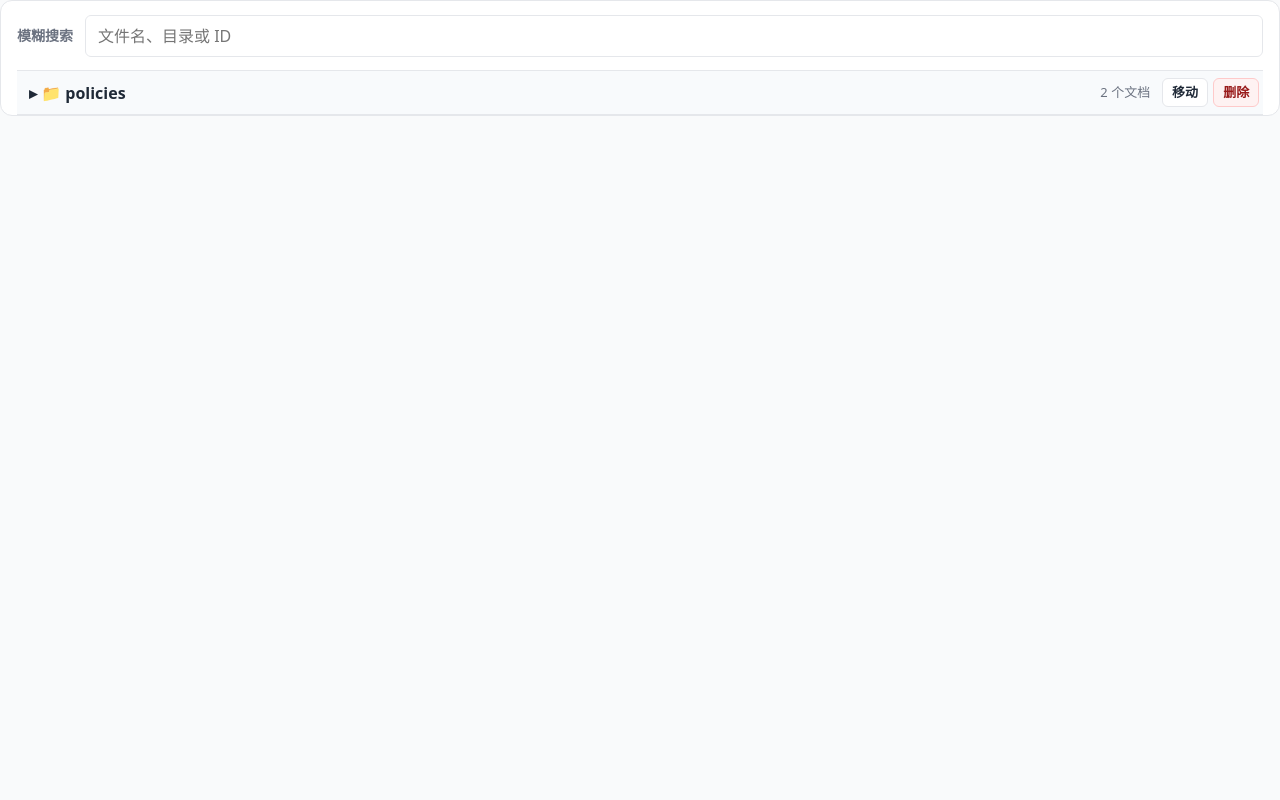
Test: source file browser › opens plain-text preview from filename or view button
Click the button with aria-label "展开文件夹 policies" at (95, 93), box [29,81,1084,105]
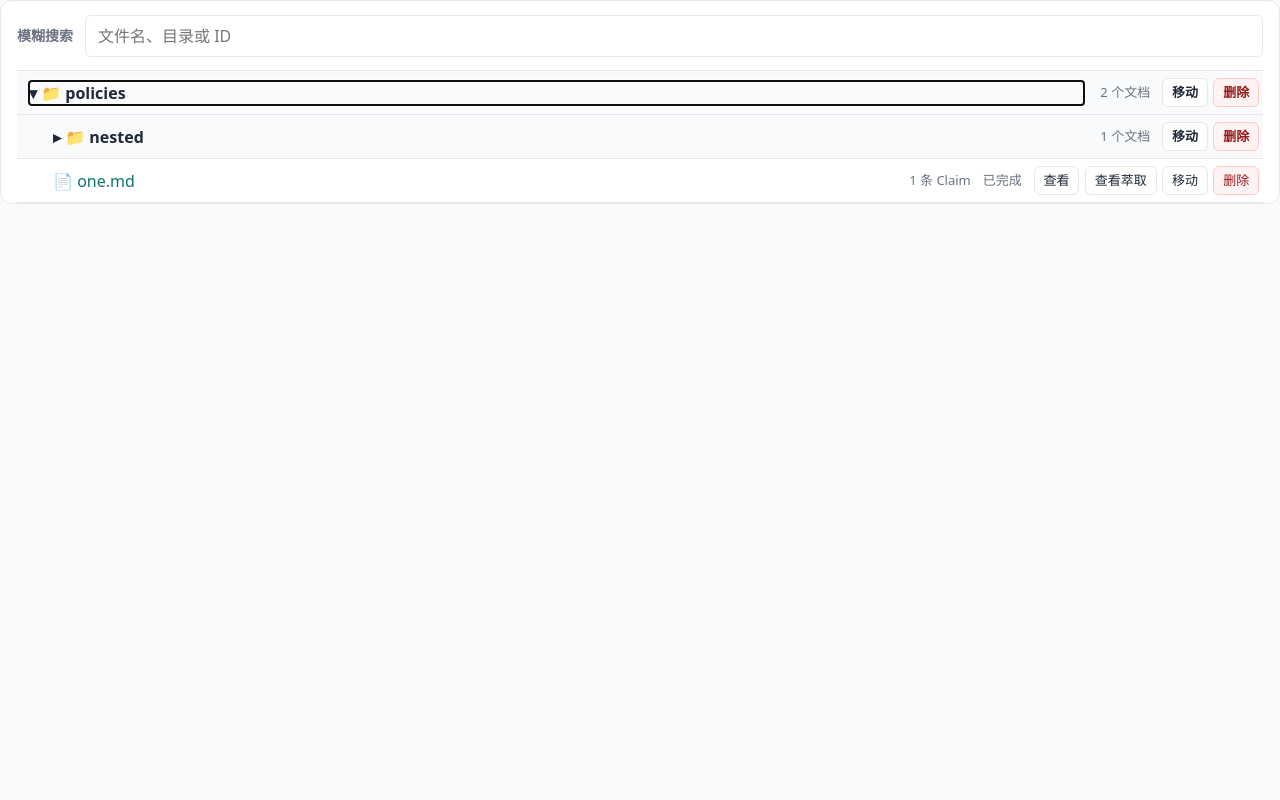
Click the button "📄 one.md" at (106, 181), box [53,169,893,193]
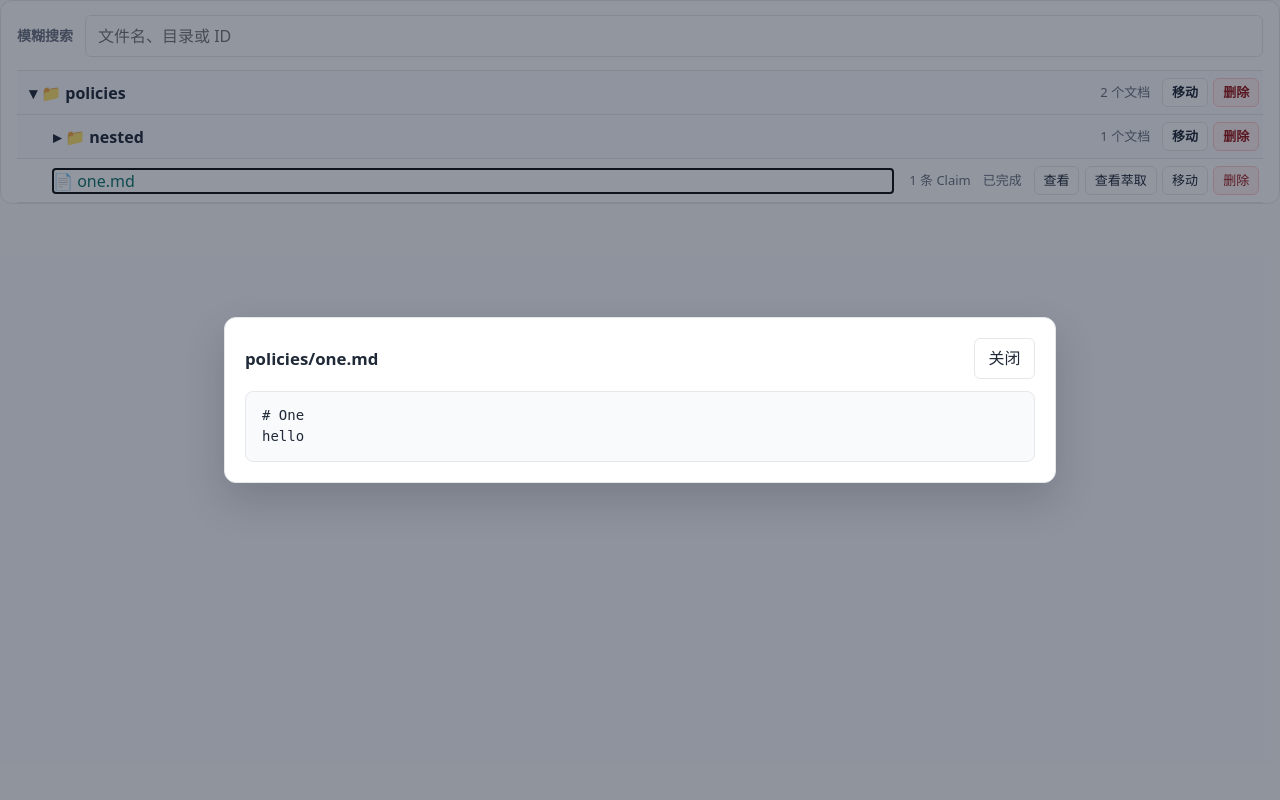
Expected: the dialog is shown, [224,317,1056,483]
Click the button with aria-label "关闭预览" at (1004, 358), box [974,338,1035,379]
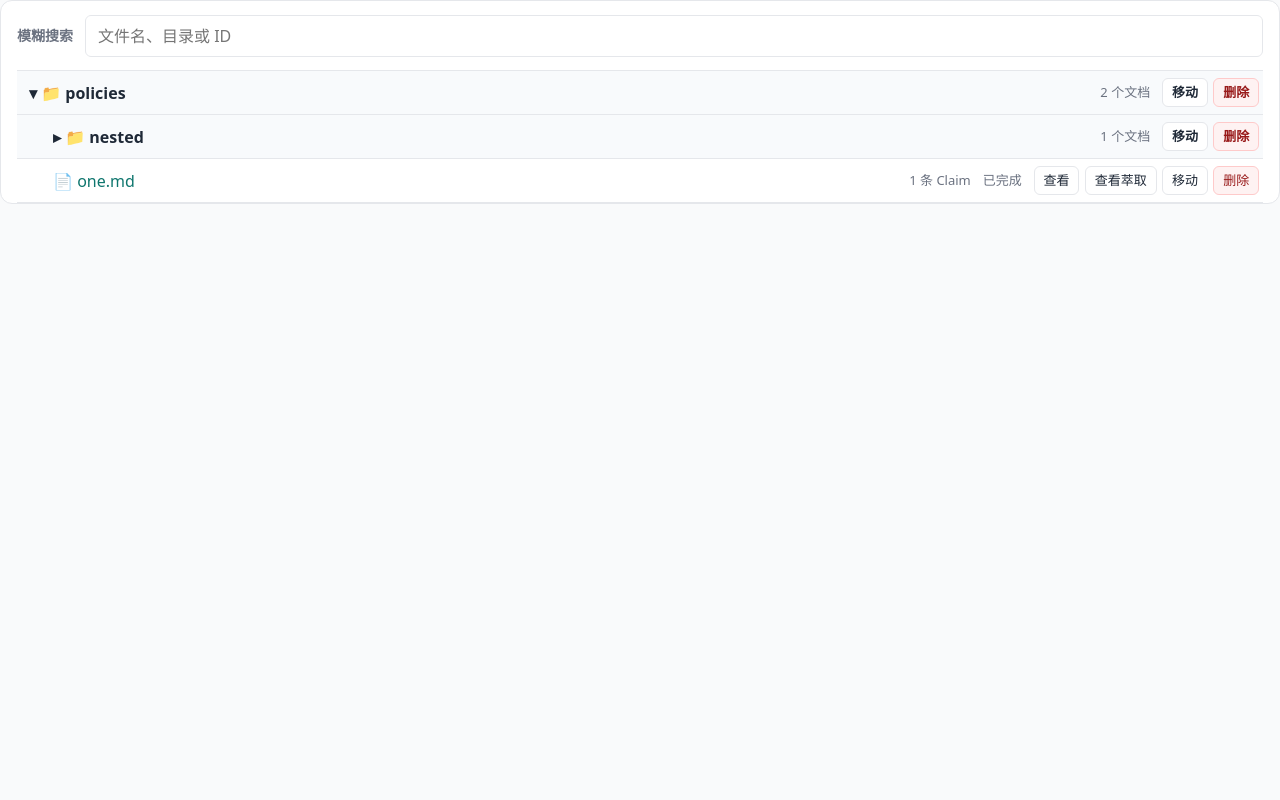
Expected: the dialog is gone
Click the button with aria-label "查看文件 one.md" at (1057, 181), box [1034,166,1079,196]
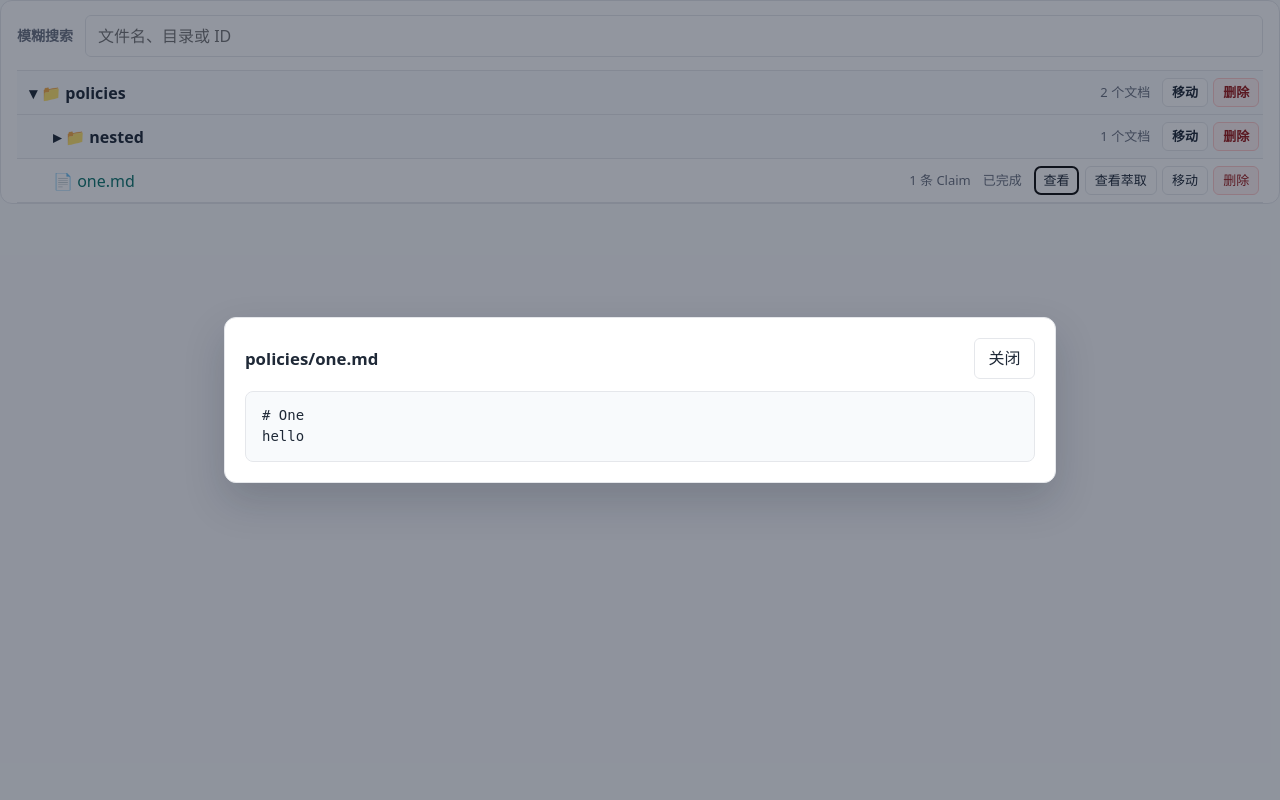
Expected: the dialog is shown, [224,317,1056,483]
